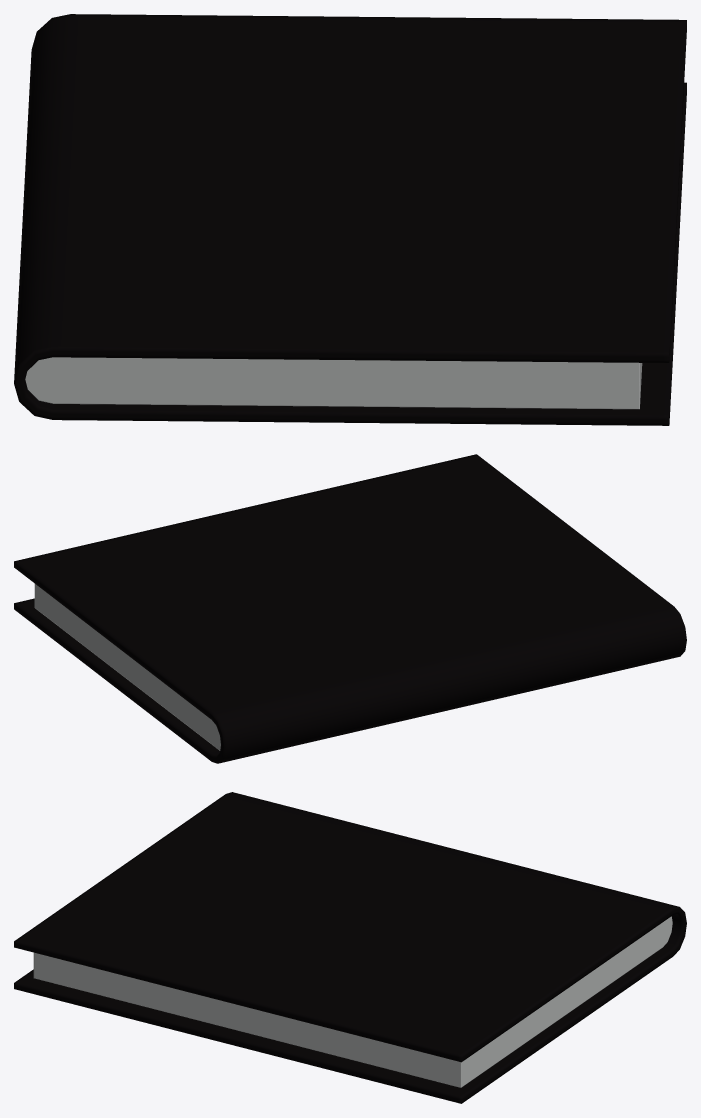
The model's file is book.glb.
3 views of the same model, one above another, from view 1: azimuth 30°, elevation 25°; view 2: azimuth 150°, elevation 25°; view 3: azimuth 270°, elevation 25° (orthographic). The views are drawn at different scales.
Parts seen in each view (by area): view 1: BookCover; view 2: BookCover; view 3: BookCover.
Part boxes in pixels (x1,y1,x2,y2): BookCover: [14, 14, 686, 425]; BookCover: [14, 454, 686, 763]; BookCover: [14, 792, 686, 1103].
Size of the model in its own units: 0.2023 by 0.0165 by 0.2117.
1 material, 1 textured.
